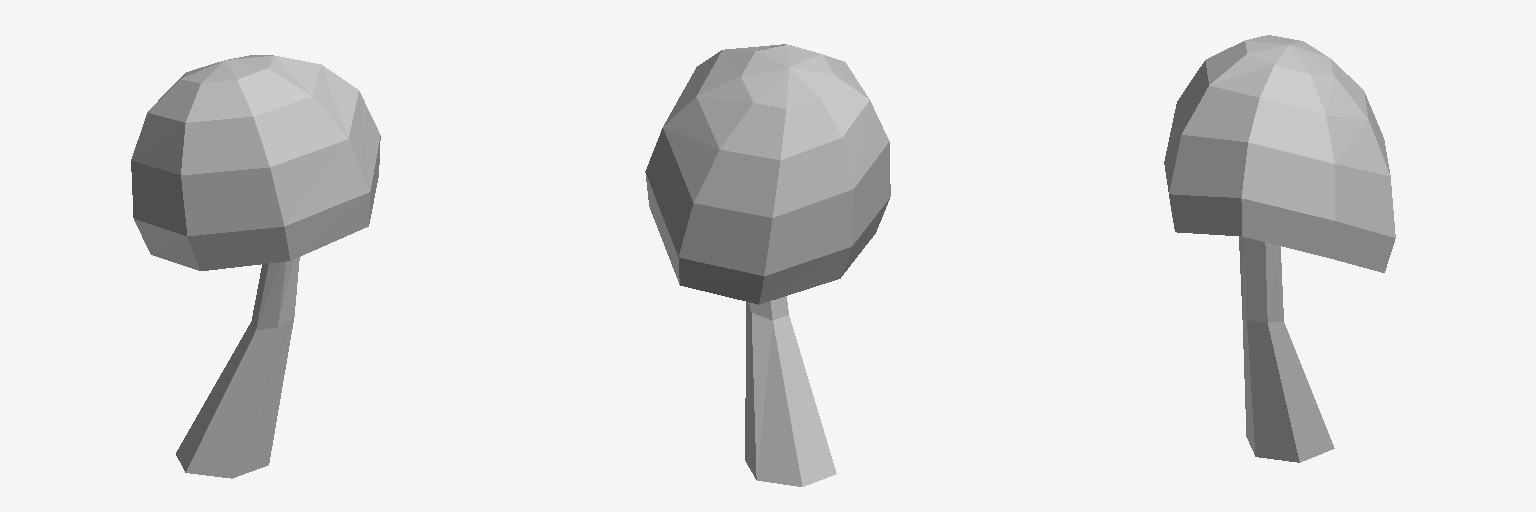
The model's file is shroom3.obj.
The picture shows the model from 3 angles: view 1: azimuth 30°, elevation 25°; view 2: azimuth 150°, elevation 25°; view 3: azimuth 270°, elevation 25°; orthographic projection.
Visible parts, largest first — view 1: shroom3, pCylinder1; view 2: shroom3, pCylinder1; view 3: shroom3, pCylinder1.
Part boxes in pixels (bbox=[...]): shroom3: bbox=[131, 55, 380, 270]; pCylinder1: bbox=[176, 257, 299, 478]; shroom3: bbox=[645, 44, 890, 304]; pCylinder1: bbox=[745, 296, 836, 486]; shroom3: bbox=[1164, 35, 1395, 272]; pCylinder1: bbox=[1239, 236, 1334, 462].
Size of the model in its own units: 1.02 by 1.85 by 0.9665.